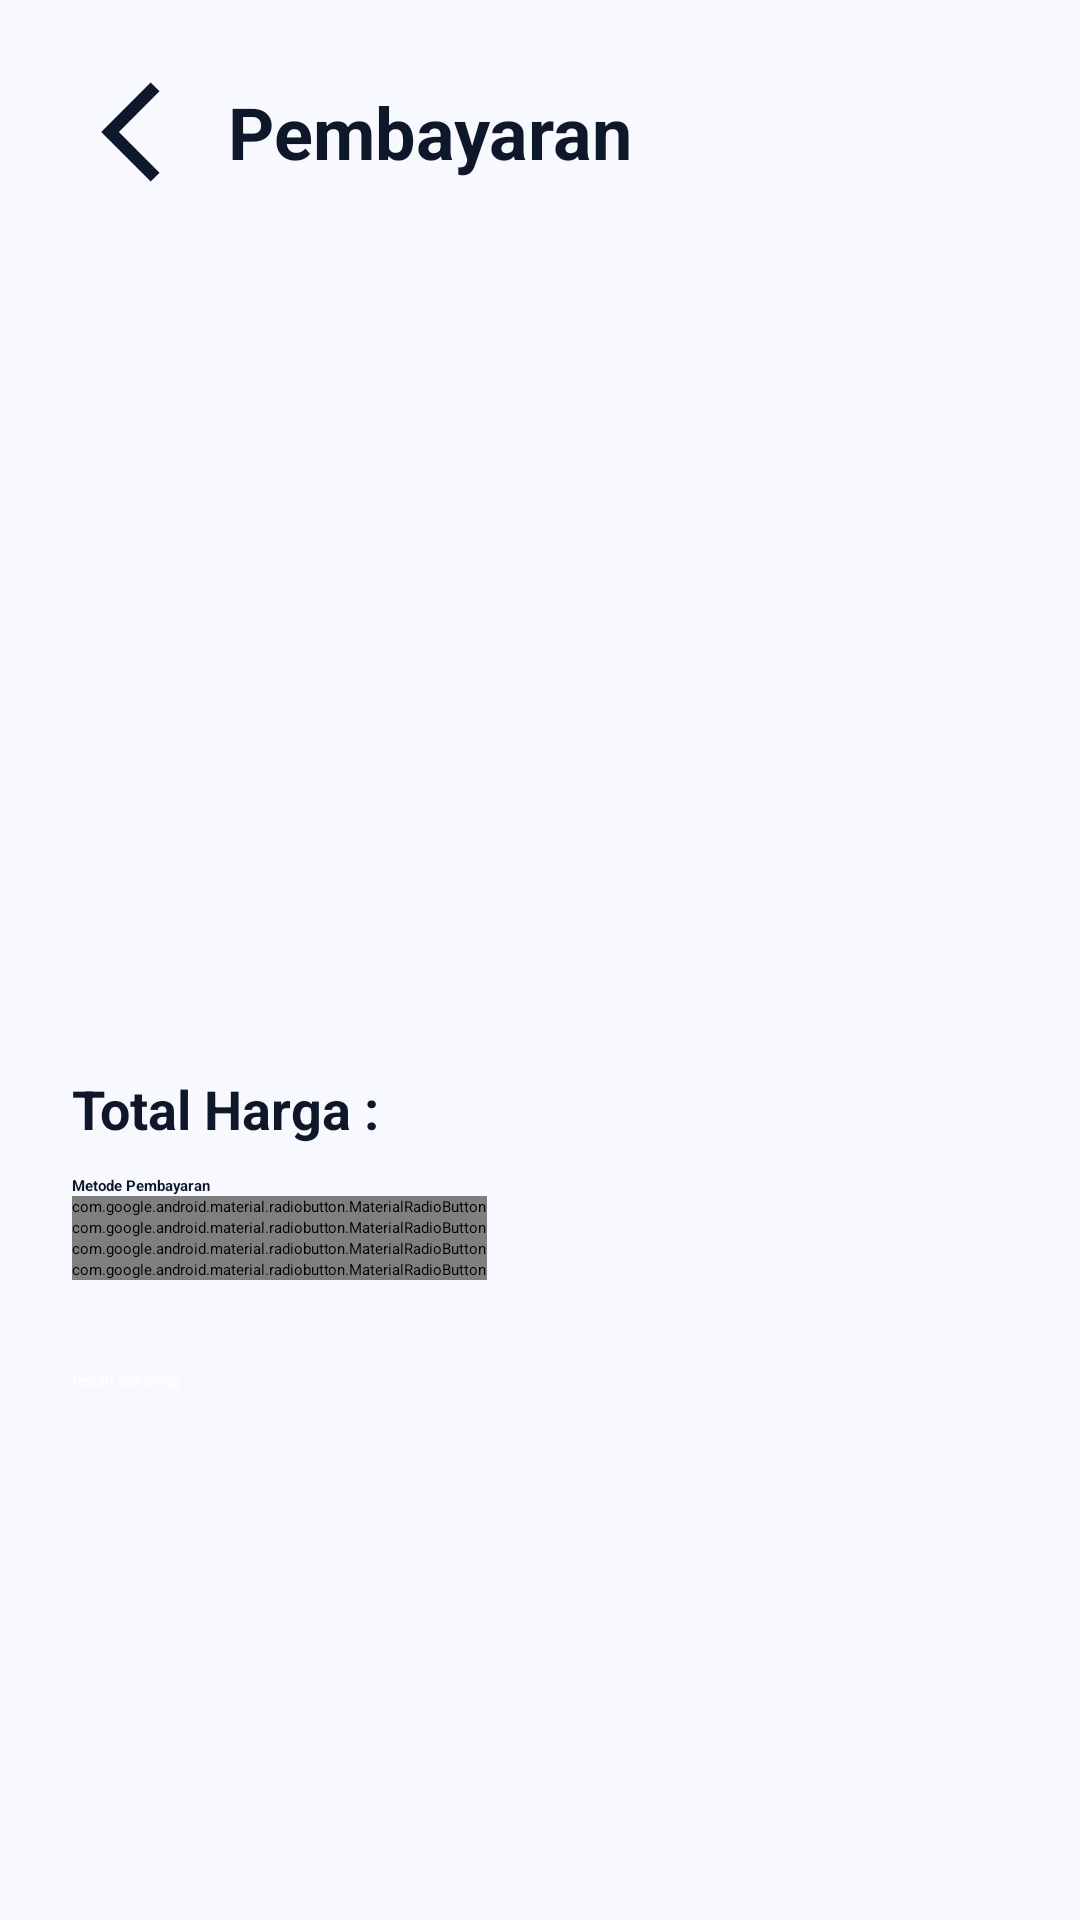

Icon click points for this 1080px x 1920px phone screenshot, format point (x, y):
Kembali: point (130, 132)
